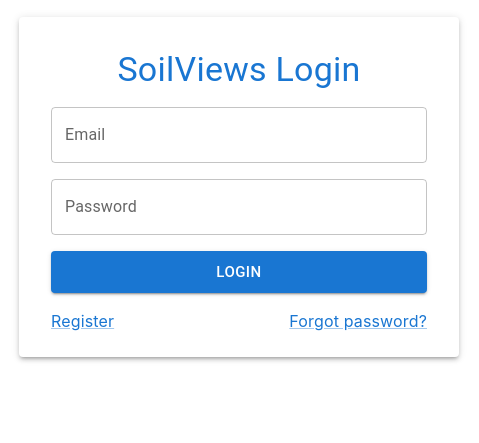
Test case: shows an error Alert when signIn rejects
In the field labelled "Email": (239, 135) [51, 107, 427, 163], type "a@b.co"
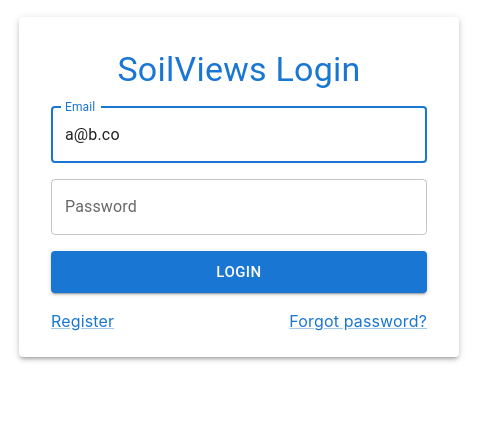
In the password field labelled "Password": (239, 207) [51, 179, 427, 235], type "secret1"
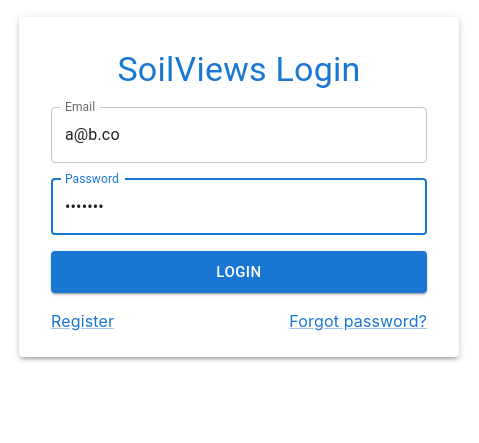
Click the button "Login": (239, 272) [51, 251, 427, 293]
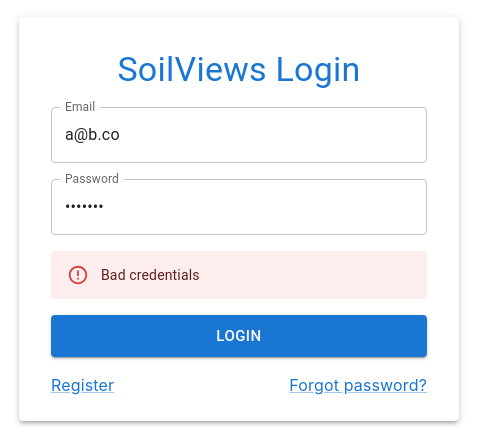
Check: the message reads "Bad credentials", box [101, 267, 200, 283]
